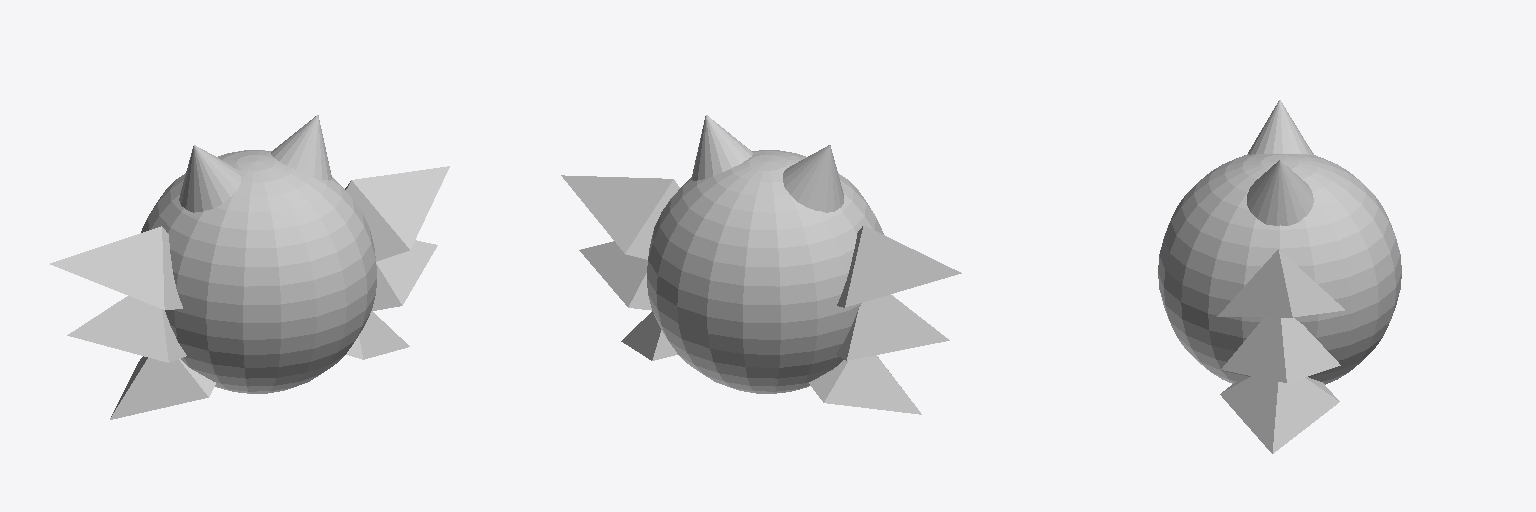
File: Malus_dark.obj
3 views of the same model, side by side, from view 1: azimuth 30°, elevation 25°; view 2: azimuth 150°, elevation 25°; view 3: azimuth 270°, elevation 25° (orthographic).
Visible parts, largest first — view 1: polySurface7; view 2: polySurface7; view 3: polySurface7.
Part boxes in pixels (left/top/right/bottom): polySurface7: left=50, top=115, right=449, bottom=419; polySurface7: left=561, top=115, right=961, bottom=414; polySurface7: left=1158, top=100, right=1401, bottom=453.
Bounding box in the file's own units: 3.8 × 2.29 × 2.